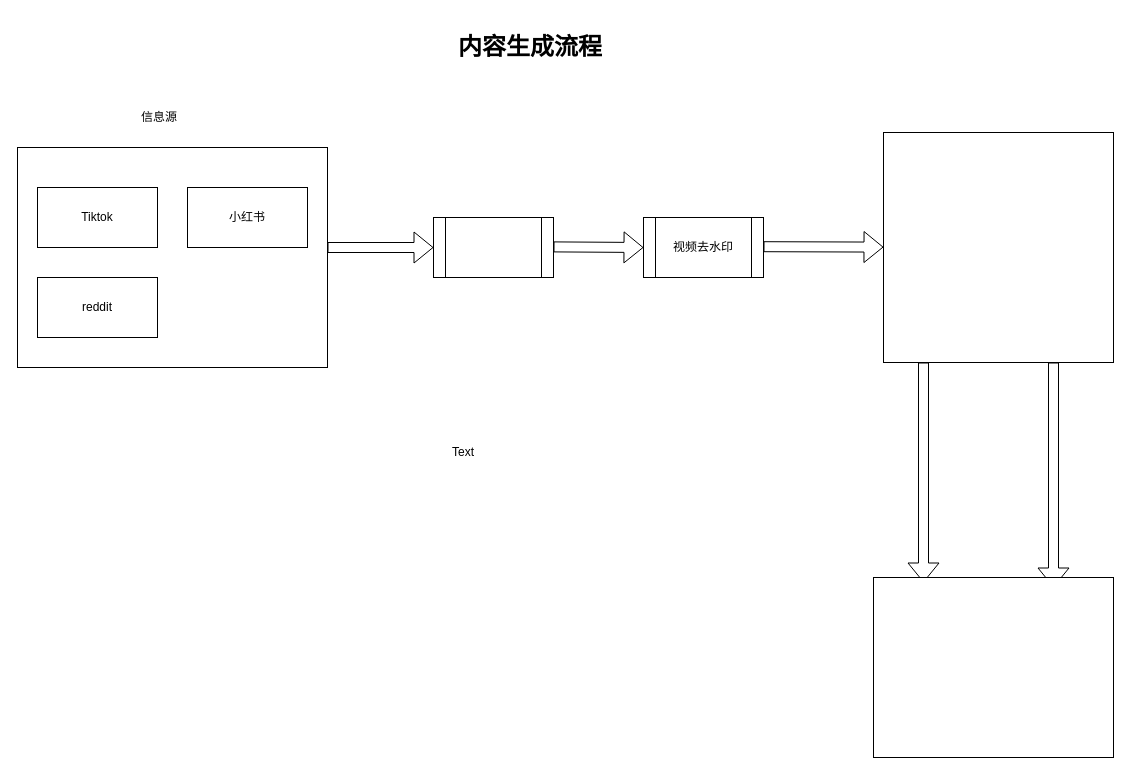
This 1131x775 diagram has some shape labels left out. Each missing label, with the centre of its shape:
"素材库" goes at pixel 998 247.
"视频地址拾取" goes at pixel 493 247.
